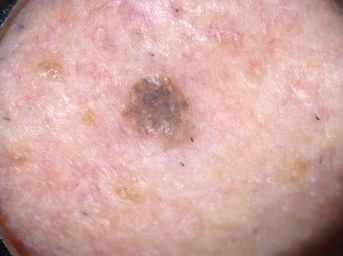seborrheic keratosis: (88, 33, 208, 170)
